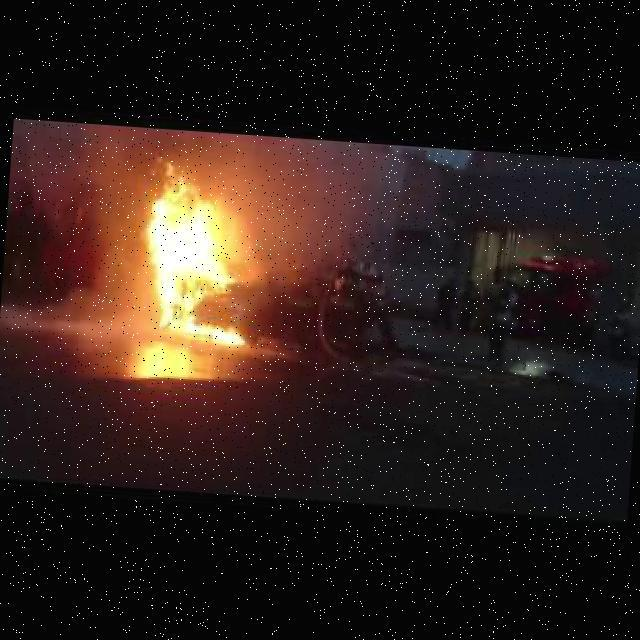Fire: (138, 156, 267, 348)
